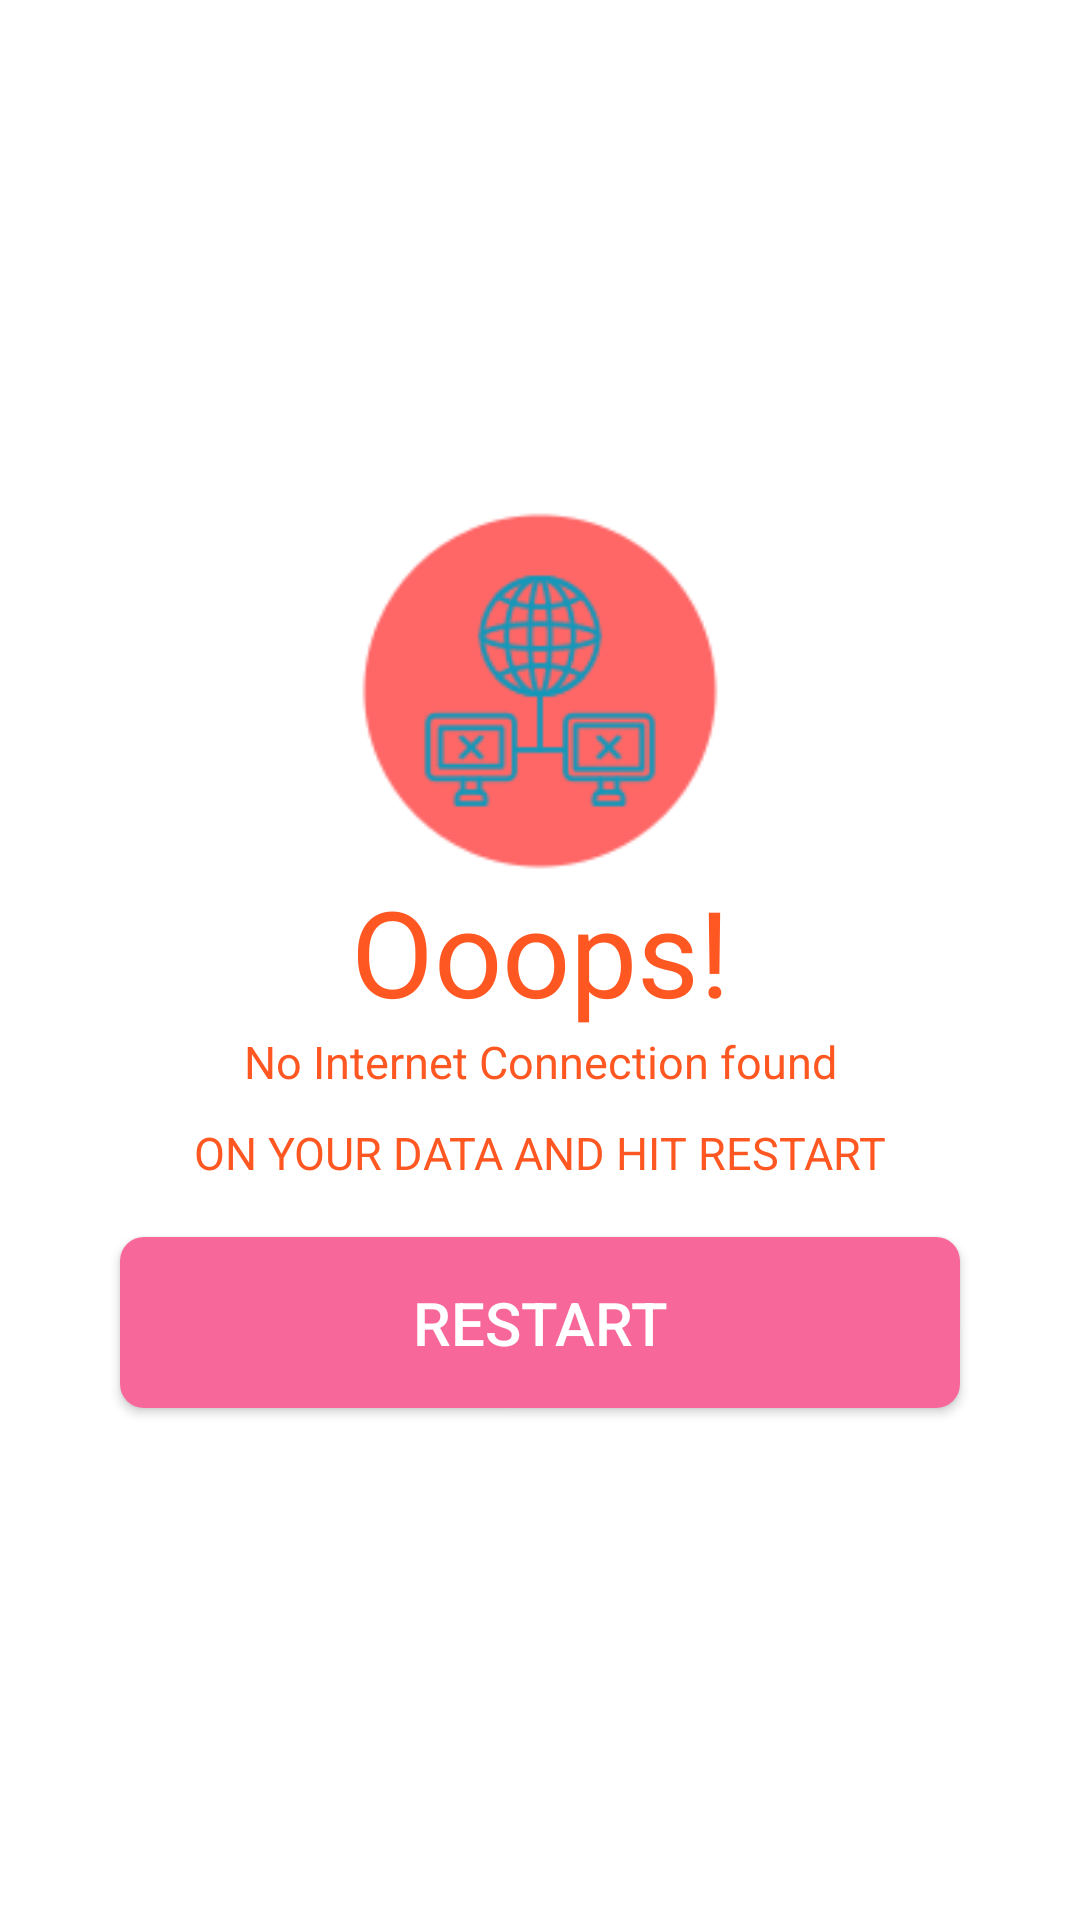

Where to tap for icons on this 1080px x 1920px app screen, as (x=x, y=y):
no internet: (x=540, y=691)
